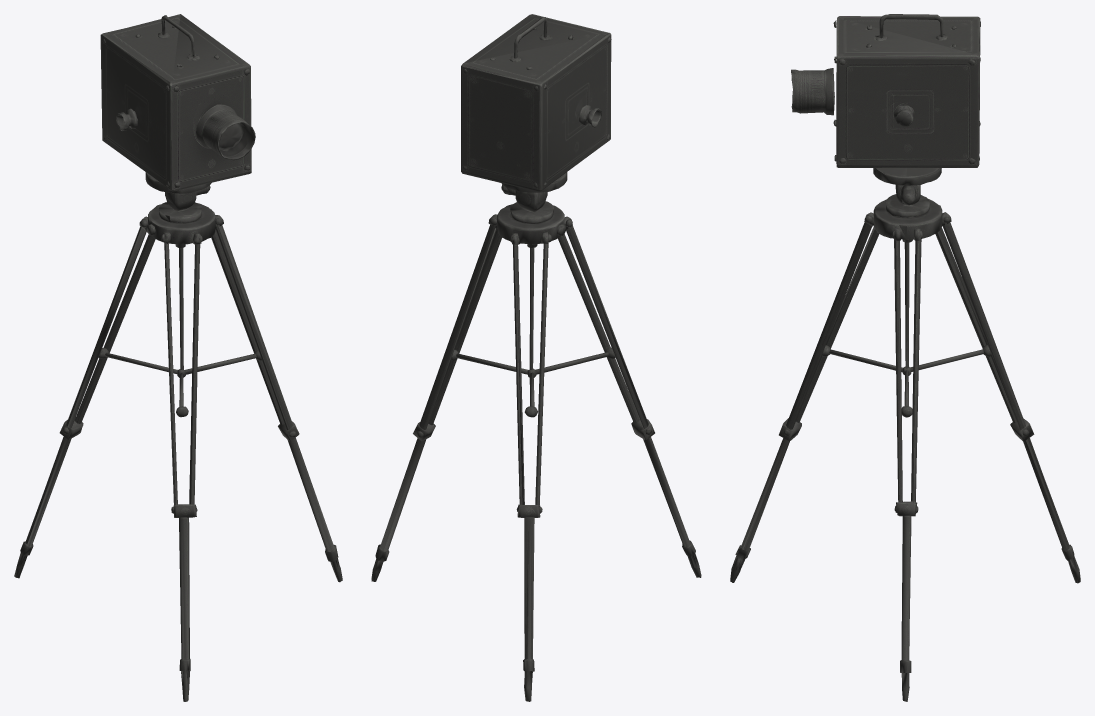
Rendered from rrr_prop_cam-tripod_v1.glb.
The picture shows the model from 3 angles, left to right: view 1: azimuth 30°, elevation 25°; view 2: azimuth 150°, elevation 25°; view 3: azimuth 270°, elevation 25°; orthographic projection. The views are drawn at different scales.
Visible parts, largest first — view 1: Mesh_0.001; view 2: Mesh_0.001; view 3: Mesh_0.001.
Boxes of the visible parts, <box> form: Mesh_0.001: <box>14,14,342,701</box>; Mesh_0.001: <box>371,14,701,701</box>; Mesh_0.001: <box>730,14,1080,701</box>.
Size of the model in its own units: 0.6431 by 1.5 by 0.7852.
1 material, 1 textured.
